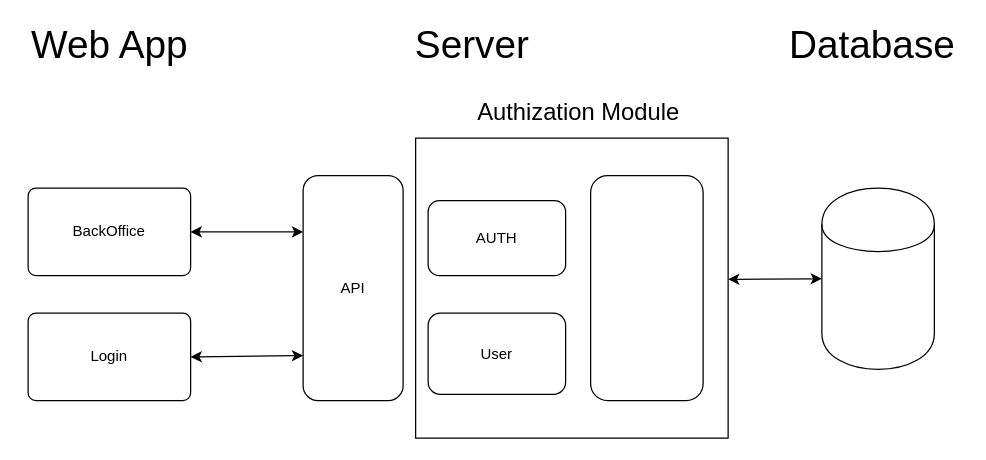
Some shapes in this 986 by 460 pixel diagram are drawn without their labels. The shapes that lost their labels are listed below. From the top down, each one's centre as x and y in pixels, then its label:
At point (646, 287): "DAL".
At point (877, 278): "DB".
